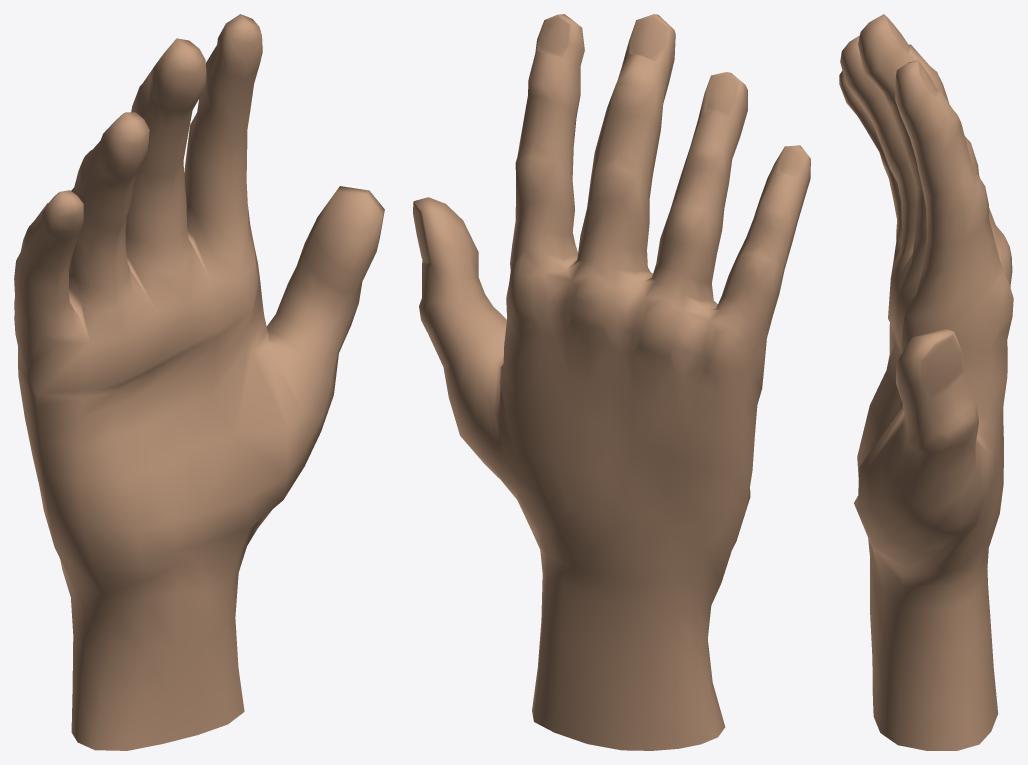
The model's file is human_hand_base_mesh.glb.
The picture shows the model from 3 angles, left to right: view 1: azimuth 30°, elevation 25°; view 2: azimuth 150°, elevation 25°; view 3: azimuth 270°, elevation 25°; orthographic projection.
Visible parts, largest first — view 1: Human Hand Base Mesh; view 2: Human Hand Base Mesh; view 3: Human Hand Base Mesh.
Boxes of the visible parts, bbox=[...] form: Human Hand Base Mesh: bbox=[14, 14, 384, 750]; Human Hand Base Mesh: bbox=[413, 14, 810, 750]; Human Hand Base Mesh: bbox=[839, 14, 1013, 750].
Size of the model in its own units: 0.817 by 1.47 by 0.3345.
